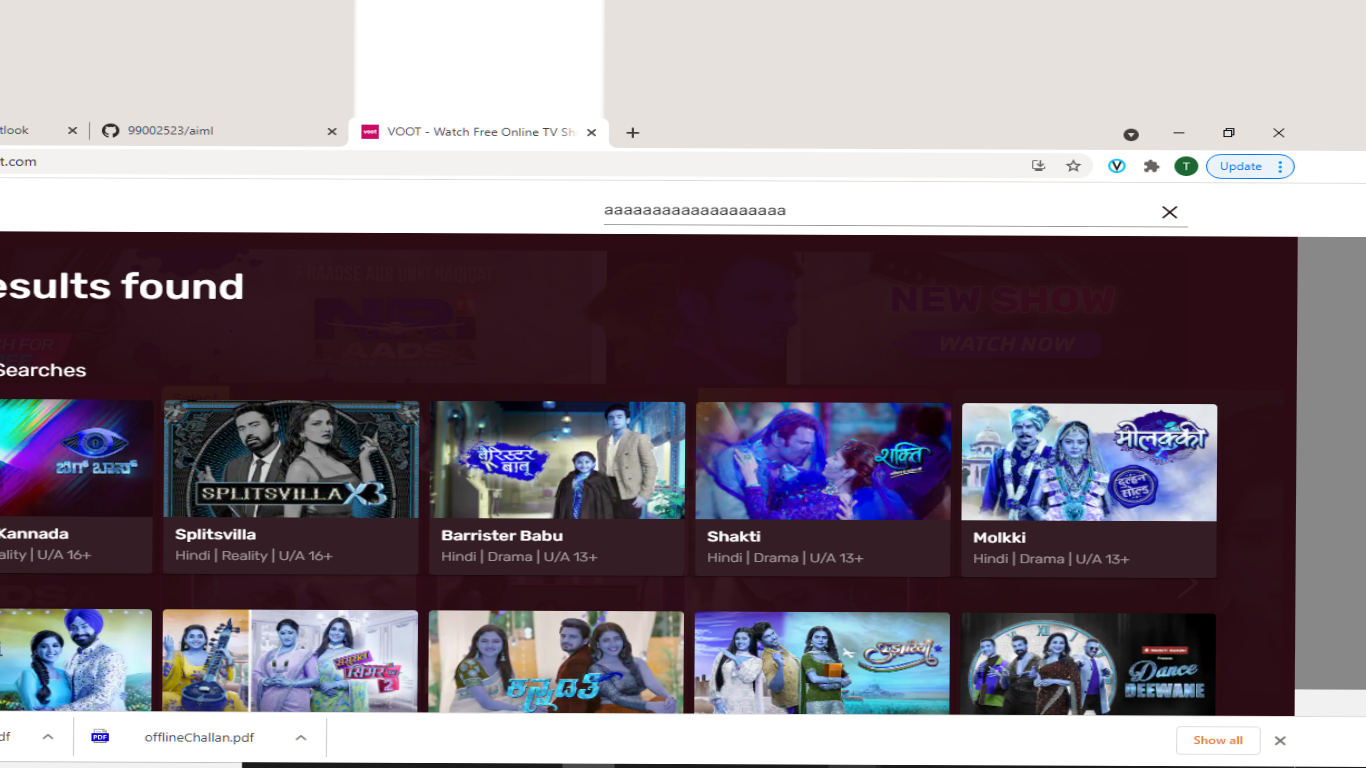noresultsfound: (1, 264, 260, 337)
searchtextbox: (582, 193, 1189, 225)
